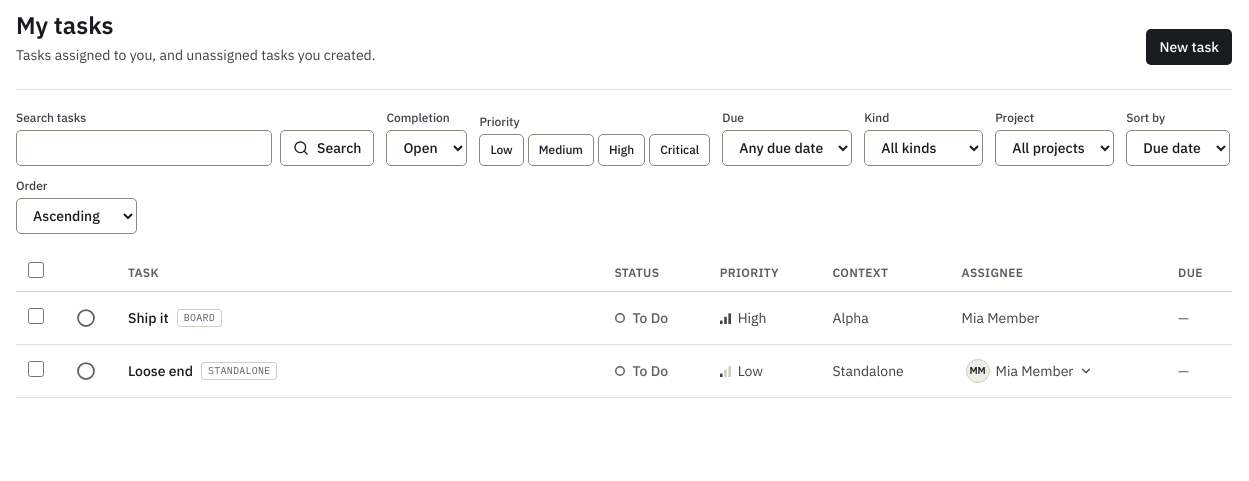
Test case: Complete and Reopen (EPIC-014 §8, §15.1) › presents a board configuration error where the action happened, accessibly, and can dismiss it
The image size is (1249, 481).
Click the button named "Complete Ship it".
click(86, 318)  # box [68,300,104,336]
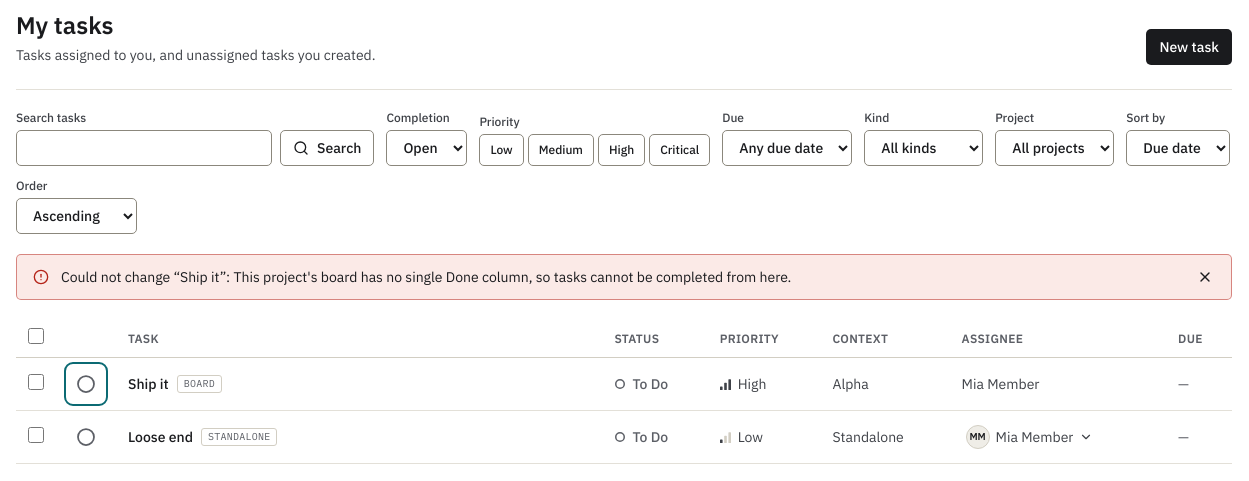
Expected: the message shows "Ship it", [180,268,220,286]
Expected: the message shows "has no single Done column", [234,268,791,286]
Click the button named "Dismiss message".
click(1205, 277)  # box [1187,259,1223,295]
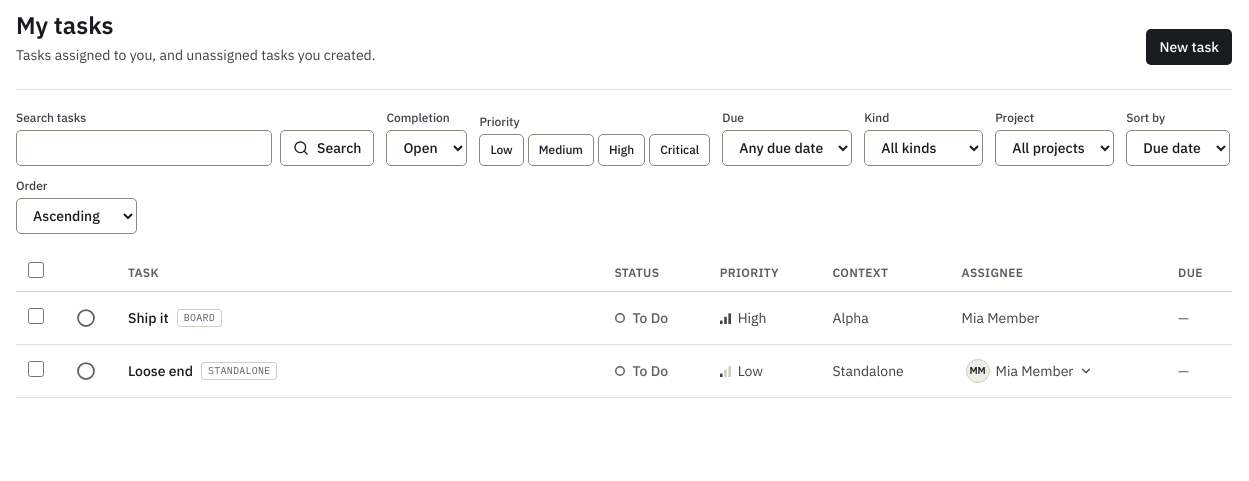
Expected: the message is gone
